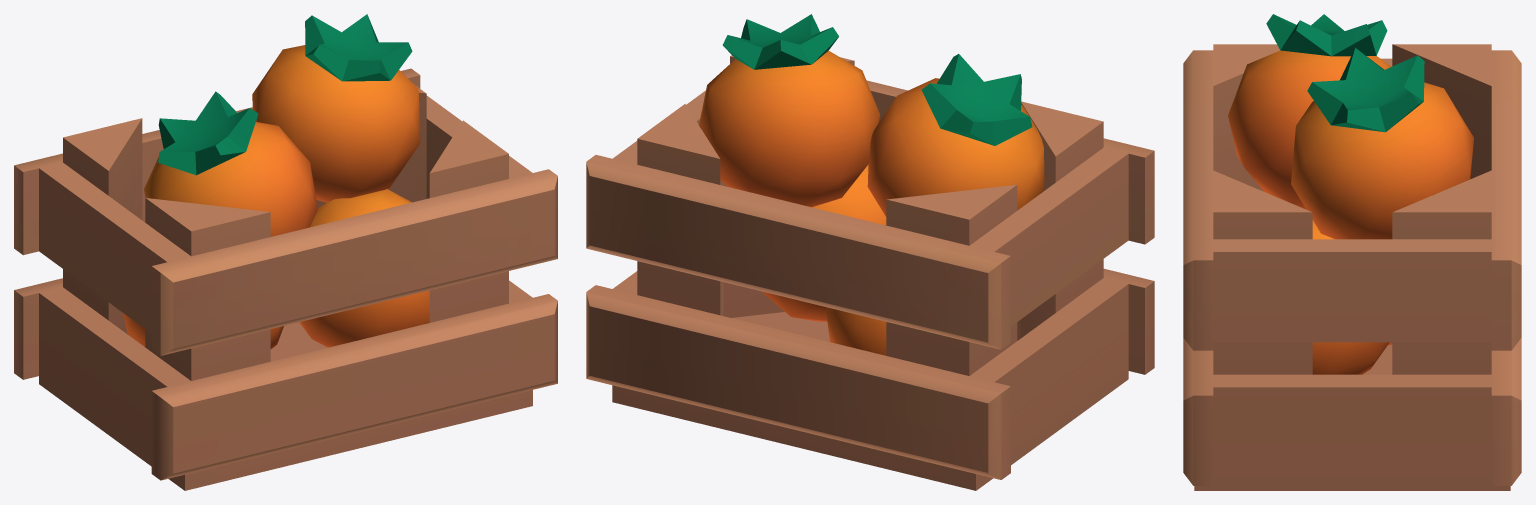
The model's file is food_crate_small_berries.glb.
3 renders of one model, left to right at view 1: azimuth 30°, elevation 25°; view 2: azimuth 150°, elevation 25°; view 3: azimuth 270°, elevation 25°, orthographic. The views are drawn at different scales.
Parts seen in each view (by area): view 1: Food_Crate_Small_Berries; view 2: Food_Crate_Small_Berries; view 3: Food_Crate_Small_Berries.
Part boxes in pixels (x1,y1,x2,y2): Food_Crate_Small_Berries: (14,14,557,490); Food_Crate_Small_Berries: (586,14,1154,490); Food_Crate_Small_Berries: (1183,14,1521,490).
Size of the model in its own units: 0.5546 by 0.4592 by 0.3772.
Materials: 1 (1 with a texture image).
